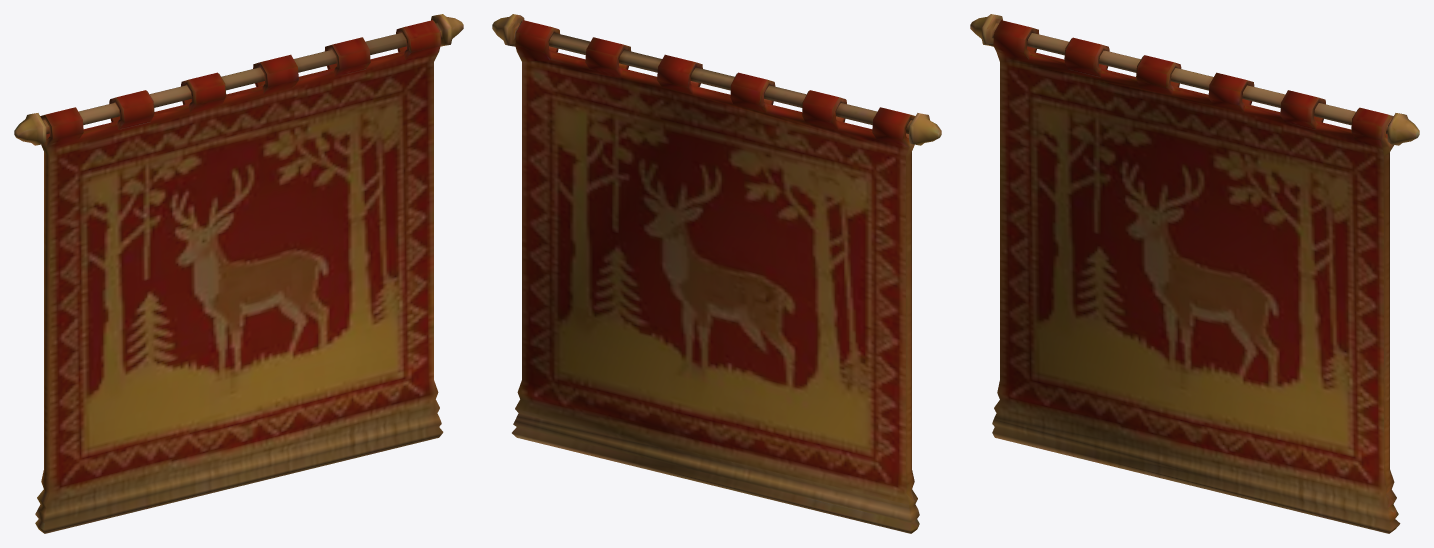
The model's file is wyn_furn_wall_tapestry.glb.
The picture shows the model from 3 angles, left to right: view 1: azimuth 30°, elevation 25°; view 2: azimuth 150°, elevation 25°; view 3: azimuth 330°, elevation 25°; orthographic projection.
Parts seen in each view (by area): view 1: tripo_node_b2e8cb3e-fd64-41b6-9d3b-0ef087af3a5e; view 2: tripo_node_b2e8cb3e-fd64-41b6-9d3b-0ef087af3a5e; view 3: tripo_node_b2e8cb3e-fd64-41b6-9d3b-0ef087af3a5e.
Boxes of the visible parts, x1,y1,x2,y2 form: tripo_node_b2e8cb3e-fd64-41b6-9d3b-0ef087af3a5e: (14,14,463,533); tripo_node_b2e8cb3e-fd64-41b6-9d3b-0ef087af3a5e: (492,14,941,533); tripo_node_b2e8cb3e-fd64-41b6-9d3b-0ef087af3a5e: (970,14,1419,533).
Bounding box in the file's own units: 1.79 × 1.6 × 0.1089.
1 material, 1 textured.
